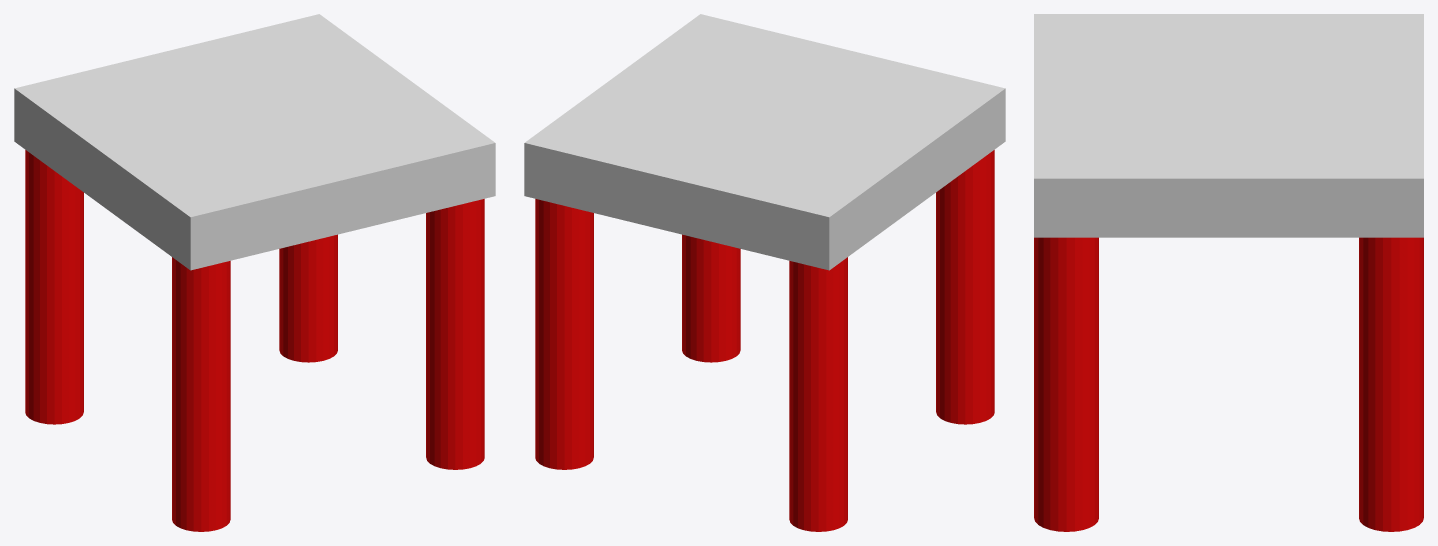
The model's file is simple.glb.
3 views of the same model, side by side, from view 1: azimuth 30°, elevation 25°; view 2: azimuth 150°, elevation 25°; view 3: azimuth 270°, elevation 25° (orthographic). The views are drawn at different scales.
Visible parts, largest first — view 1: mesh (×5); view 2: mesh (×5); view 3: mesh (×3).
Boxes of the visible parts, x1,y1,x2,y2 form: mesh (×5): (14, 14, 495, 531); mesh (×5): (524, 14, 1005, 531); mesh (×3): (1034, 14, 1423, 531).
Bounding box in the file's own units: 1.2 × 1.2 × 1.2.
